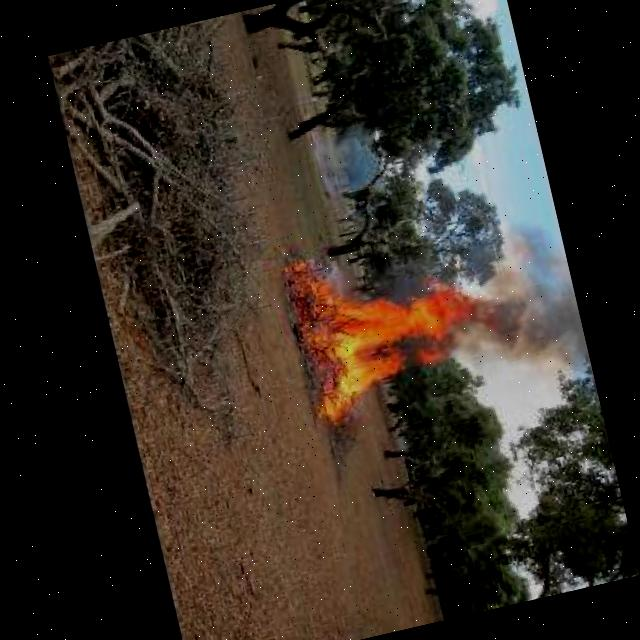fire: (289, 226, 487, 421)
